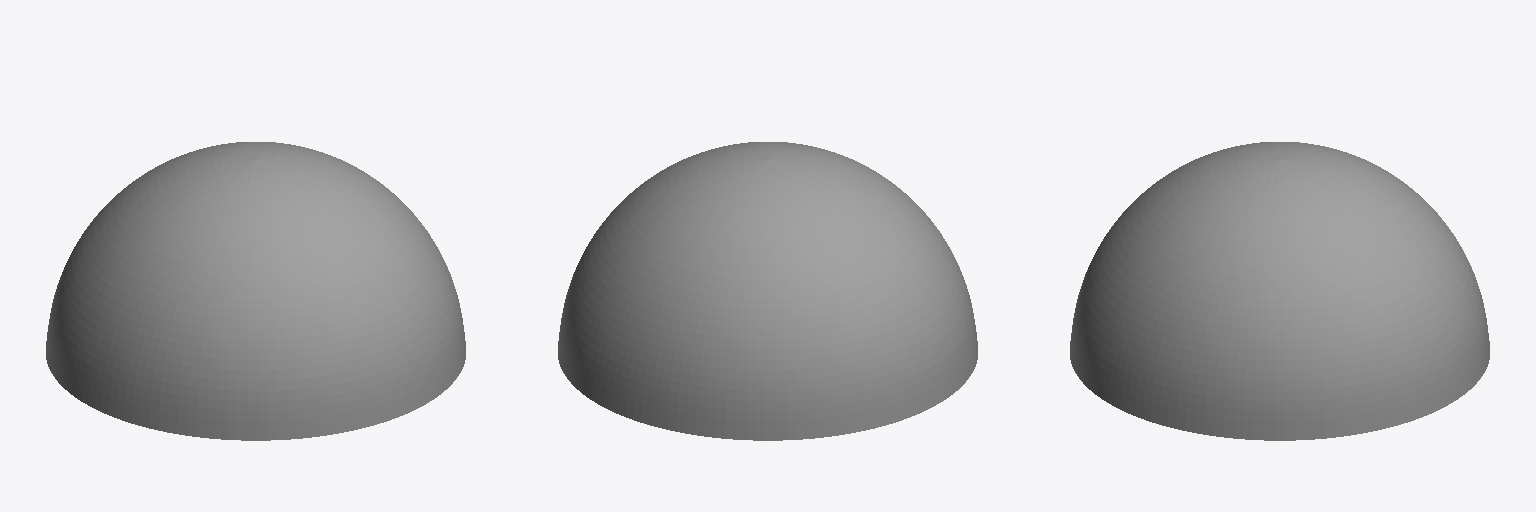
Rendered from rocket.obj.
3 views of the same model, side by side, from view 1: azimuth 30°, elevation 25°; view 2: azimuth 150°, elevation 25°; view 3: azimuth 270°, elevation 25° (orthographic).
Visible parts, largest first — view 1: Sphere; view 2: Sphere; view 3: Sphere.
Part boxes in pixels (bbox=[...]): Sphere: bbox=[46, 142, 465, 440]; Sphere: bbox=[558, 142, 977, 440]; Sphere: bbox=[1070, 142, 1489, 440].
Size of the model in its own units: 159 by 79.87 by 159.